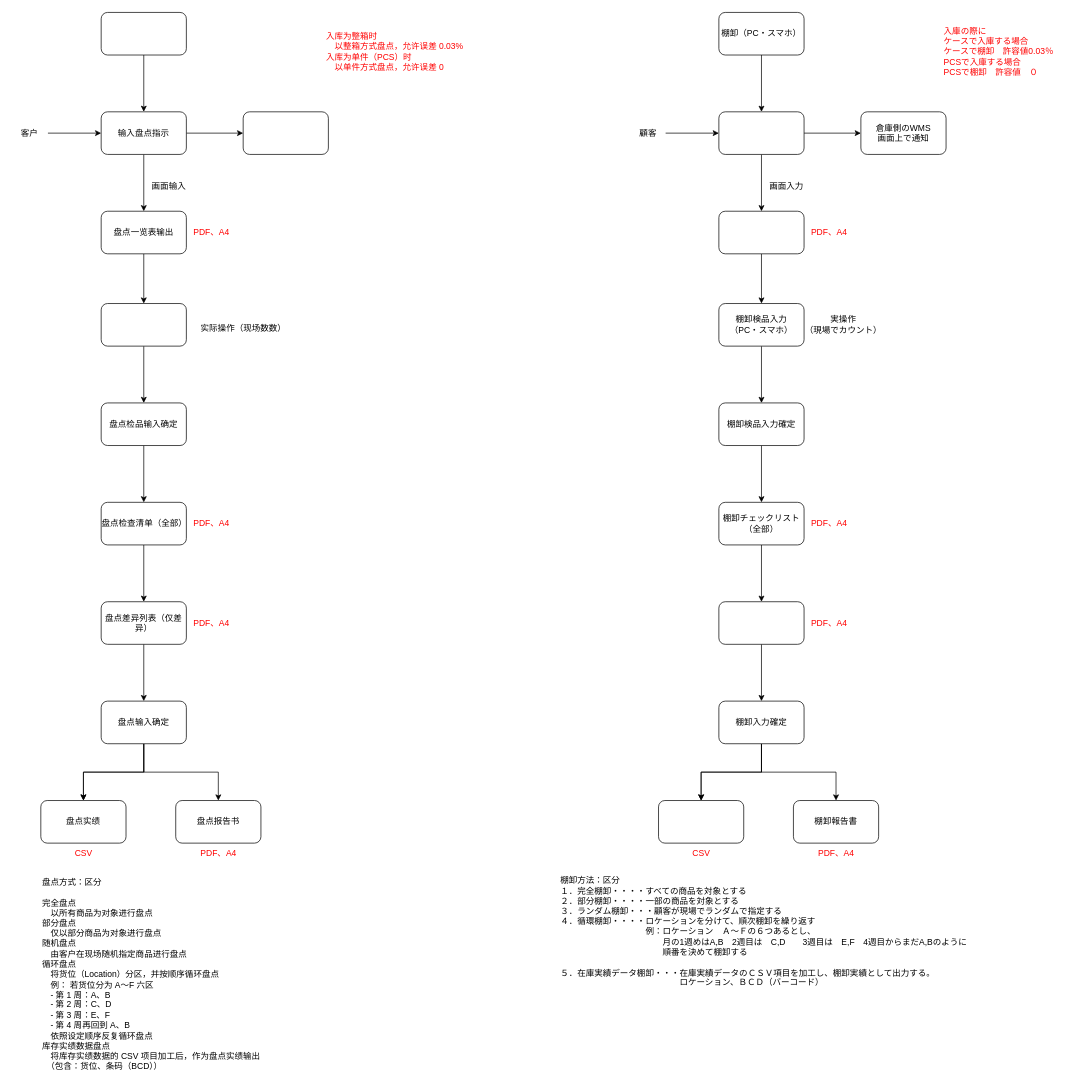
Image size: 1082x1090. Some labels were removed from this diagram. Here are the shapes that lost their labels. From the top down, the centre of each, then its label:
At point (143, 33): "盘点（PC・手机）".
At point (285, 132): "仓库端在 WMS 画面收到通知".
At point (761, 132): "棚卸指示入力".
At point (761, 232): "棚卸一覧表出力".
At point (143, 324): "盘点检品输入 （PC・手机）".
At point (761, 622): "棚卸差異リスト （差異のみ）".
At point (701, 821): "棚卸実績".
